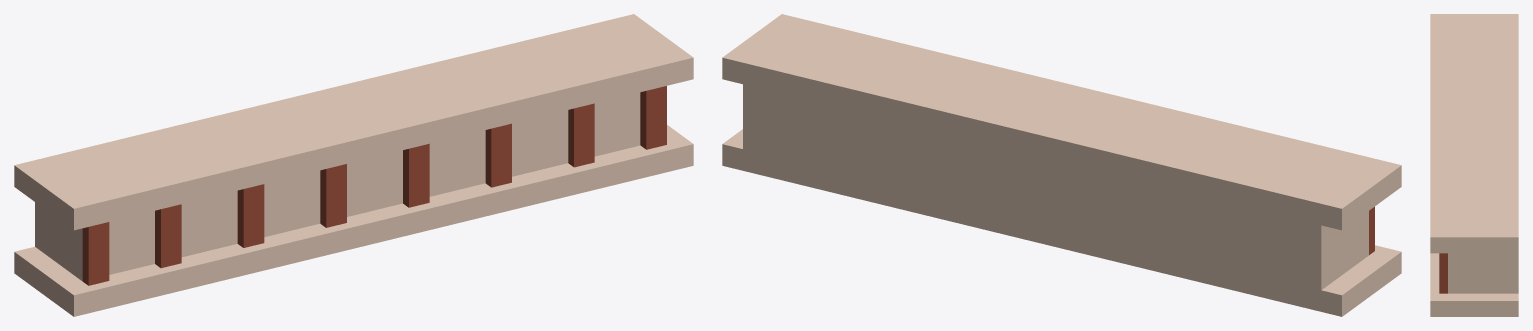
The model's file is greek_roof_support_1.fbx.
The picture shows the model from 3 angles, left to right: view 1: azimuth 30°, elevation 25°; view 2: azimuth 150°, elevation 25°; view 3: azimuth 270°, elevation 25°; orthographic projection. The views are drawn at different scales.
Visible parts, largest first — view 1: Cube.016; view 2: Cube.016; view 3: Cube.016.
Part boxes in pixels (x1,y1,x2,y2): Cube.016: (14,14,693,316); Cube.016: (722,14,1401,316); Cube.016: (1430,14,1518,316).
Bounding box in the file's own units: 1200 × 200 × 200.
